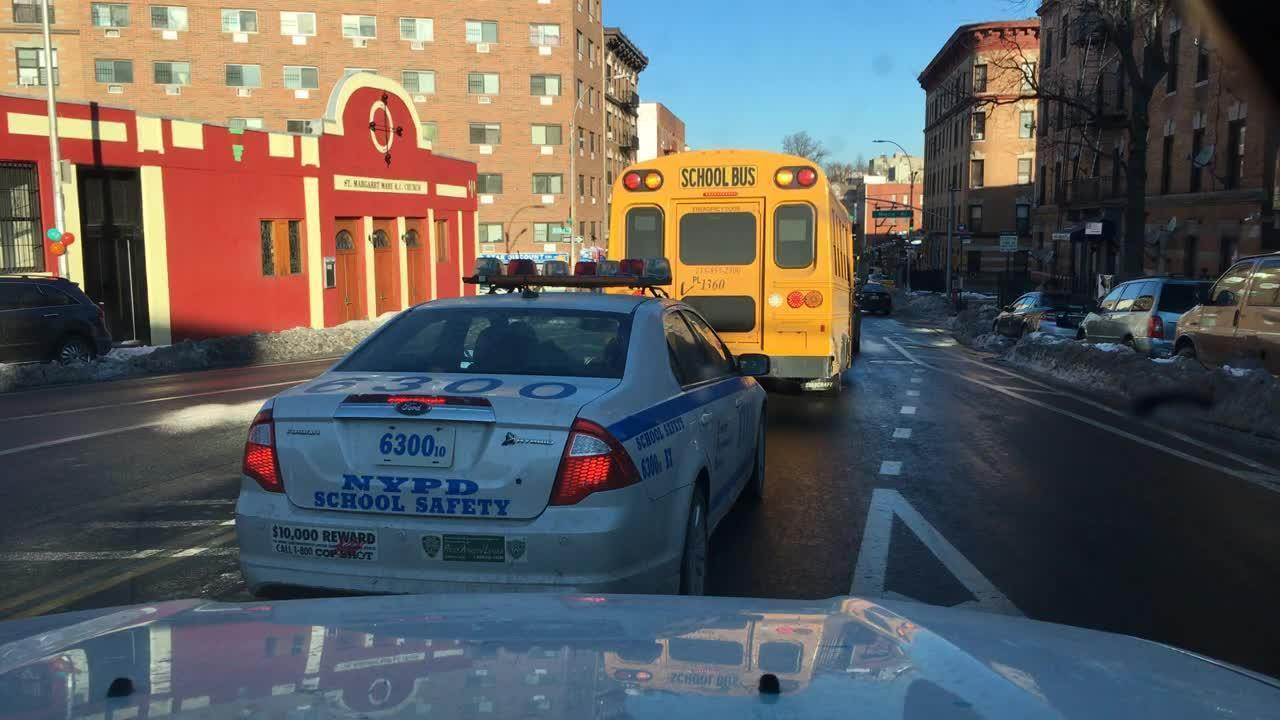ford: (394, 398, 436, 420)
